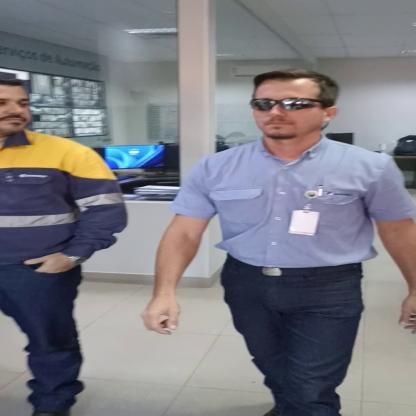Operacional: (0, 135, 123, 265)
